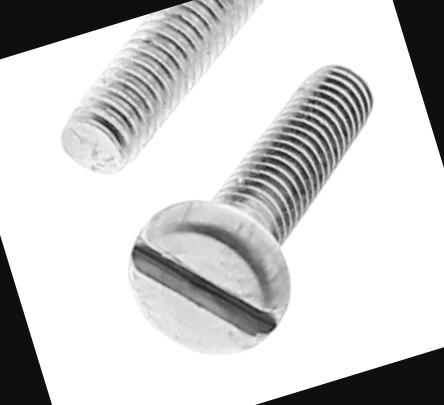screw: (108, 172, 310, 380)
